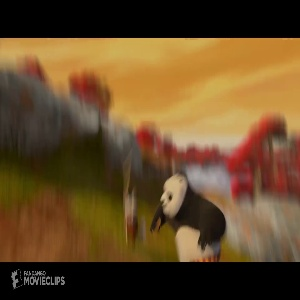po: (150, 170, 230, 262)
shifu: (121, 189, 145, 249)
